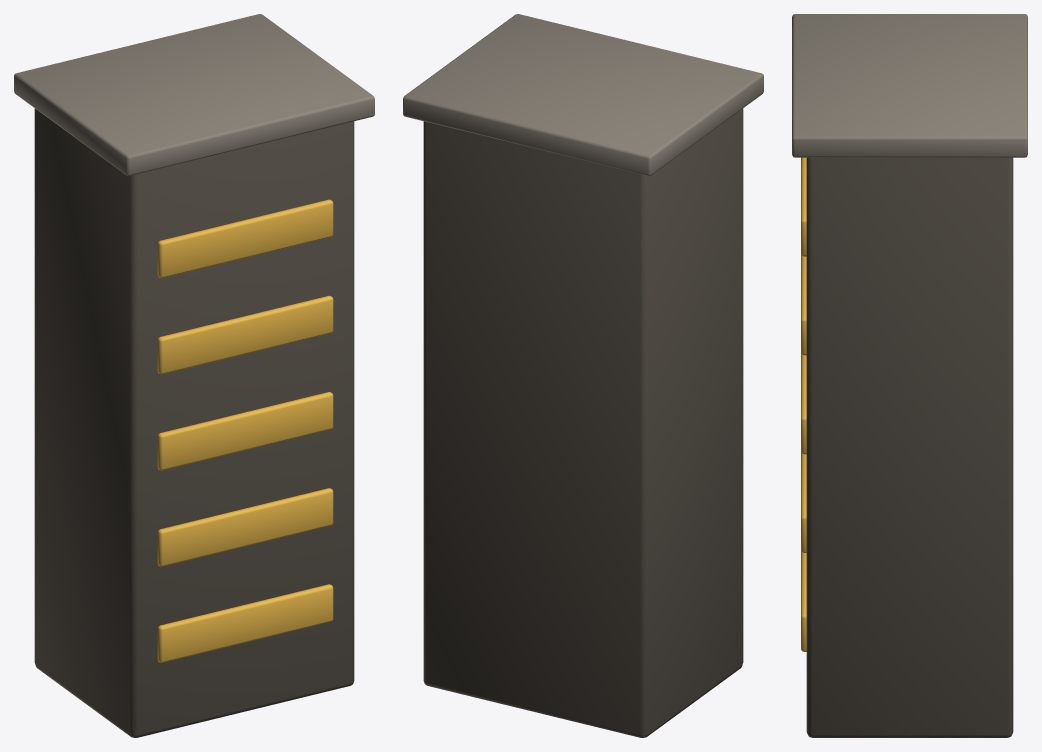
Rendered from outros.glb.
3 renders of one model, left to right at view 1: azimuth 30°, elevation 25°; view 2: azimuth 150°, elevation 25°; view 3: azimuth 270°, elevation 25°, orthographic. The views are drawn at different scales.
Visible parts, largest first — view 1: Predio; view 2: Predio; view 3: Predio.
Boxes of the visible parts, x1,y1,x2,y2 form: Predio: [14, 14, 374, 737]; Predio: [403, 14, 763, 737]; Predio: [792, 14, 1027, 737].
Bounding box in the file's own units: 0.4386 × 1 × 0.3509.
